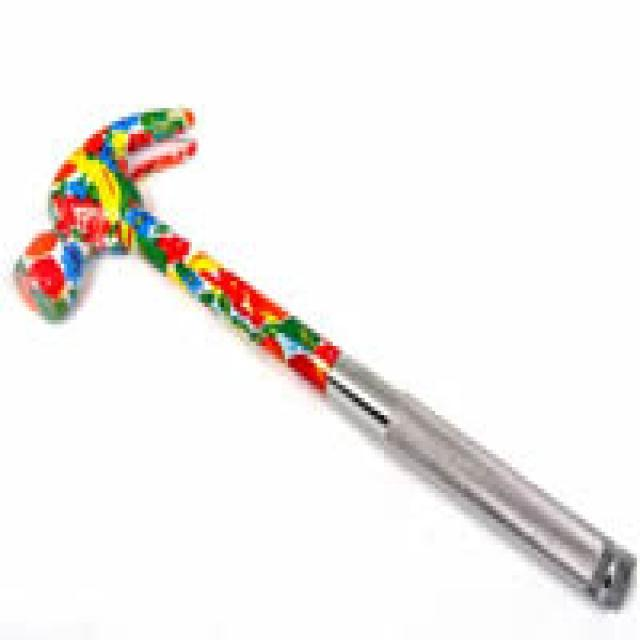hammer: (4, 96, 637, 624)
